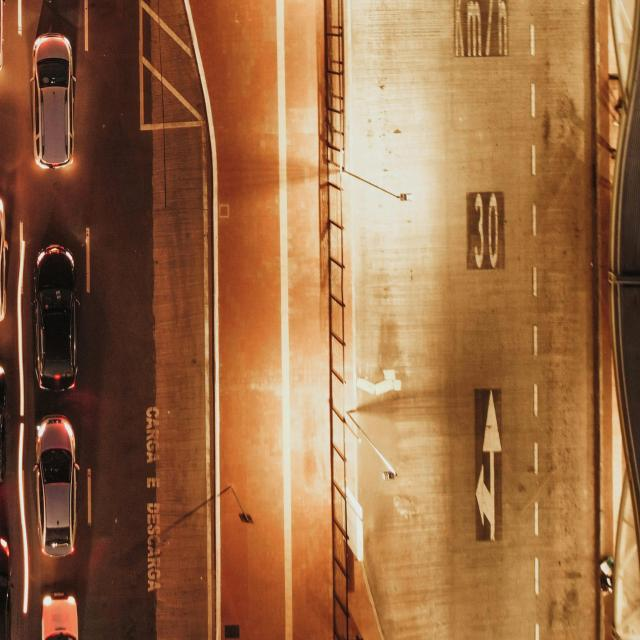car: (32, 414, 80, 560), (34, 245, 80, 392), (30, 30, 76, 174), (39, 591, 79, 640), (0, 533, 14, 639), (0, 195, 9, 324), (0, 364, 7, 486), (0, 0, 5, 75), (27, 0, 72, 1)
